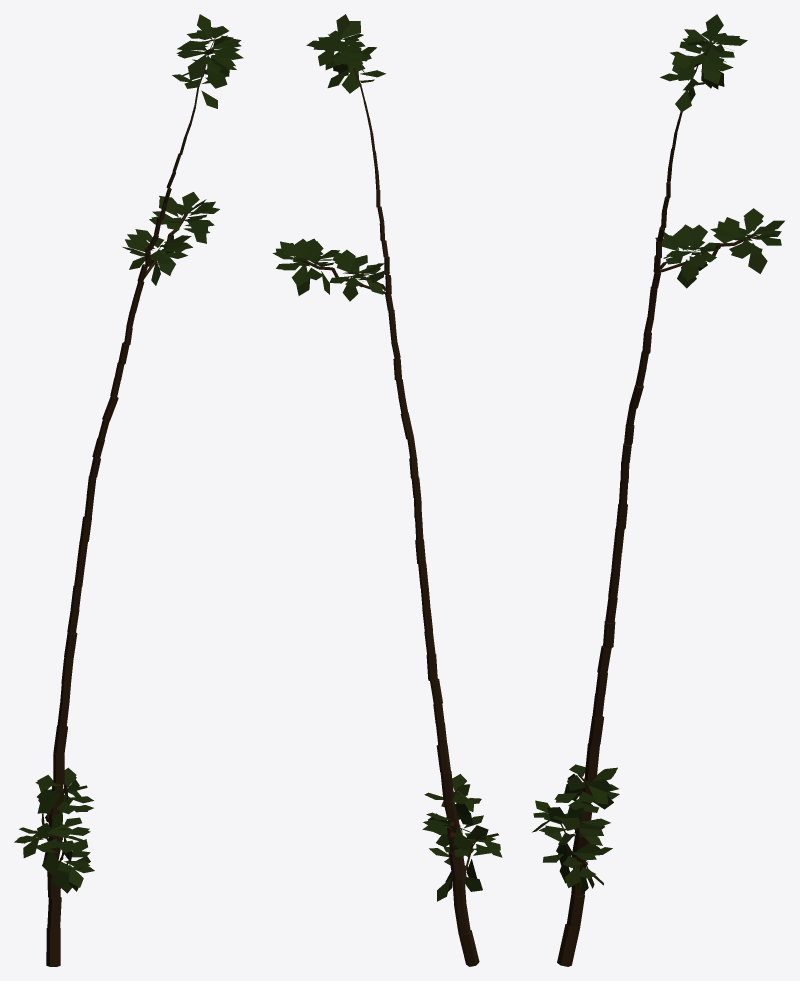
File: tree_490.obj
The picture shows the model from 3 angles, left to right: view 1: azimuth 30°, elevation 25°; view 2: azimuth 150°, elevation 25°; view 3: azimuth 330°, elevation 25°; orthographic projection. The views are drawn at different scales.
Visible parts, largest first — view 1: Leaves, TrunkAndBranches; view 2: Leaves, TrunkAndBranches; view 3: Leaves, TrunkAndBranches.
Part boxes in pixels (<box>): Leaves: <box>14,14,243,893</box>; TrunkAndBranches: <box>38,38,215,966</box>; Leaves: <box>272,14,502,901</box>; TrunkAndBranches: <box>301,40,479,966</box>; Leaves: <box>532,14,784,894</box>; TrunkAndBranches: <box>557,43,753,966</box>.
Size of the model in its own units: 2.46 by 9.89 by 1.31.
